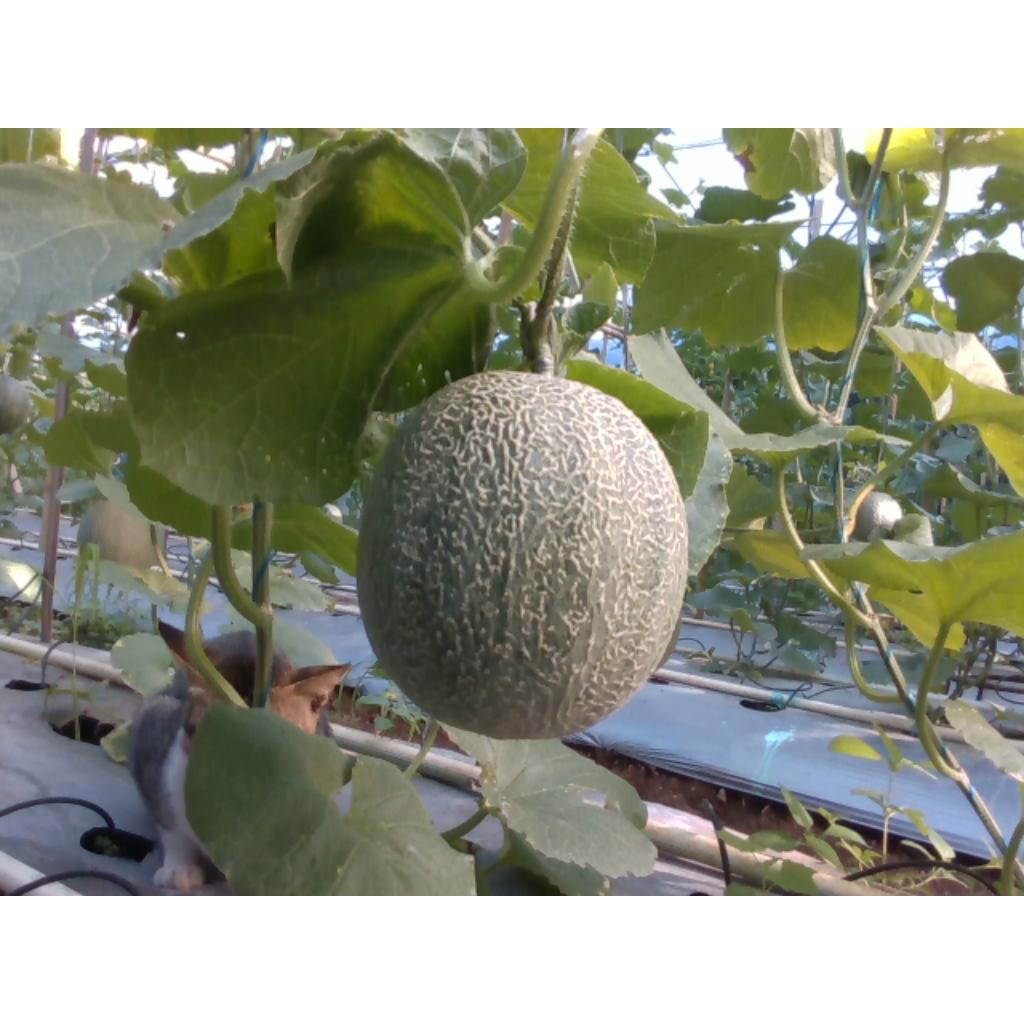melon: (360, 373, 688, 739)
